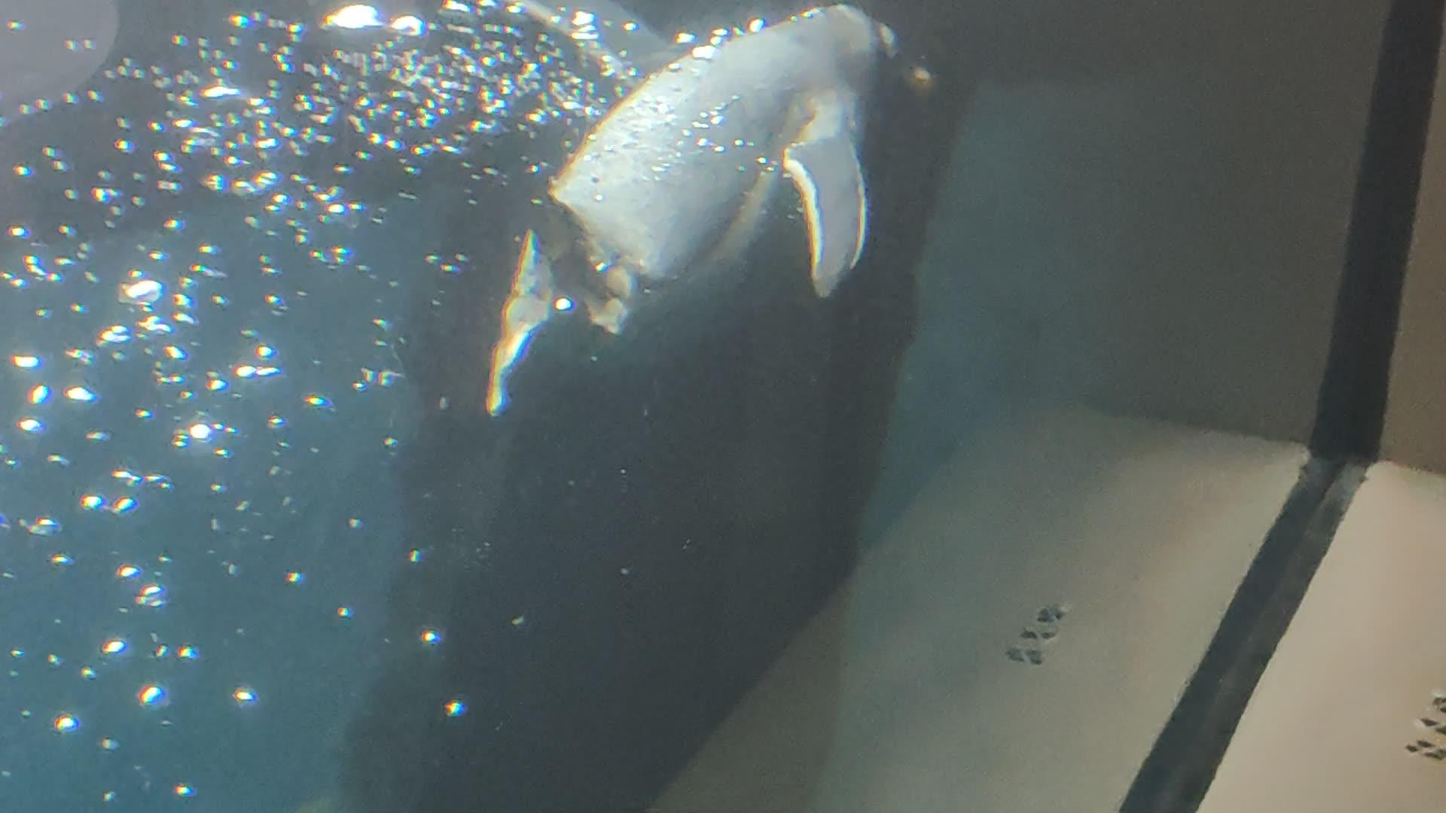apple: (484, 0, 932, 416)
